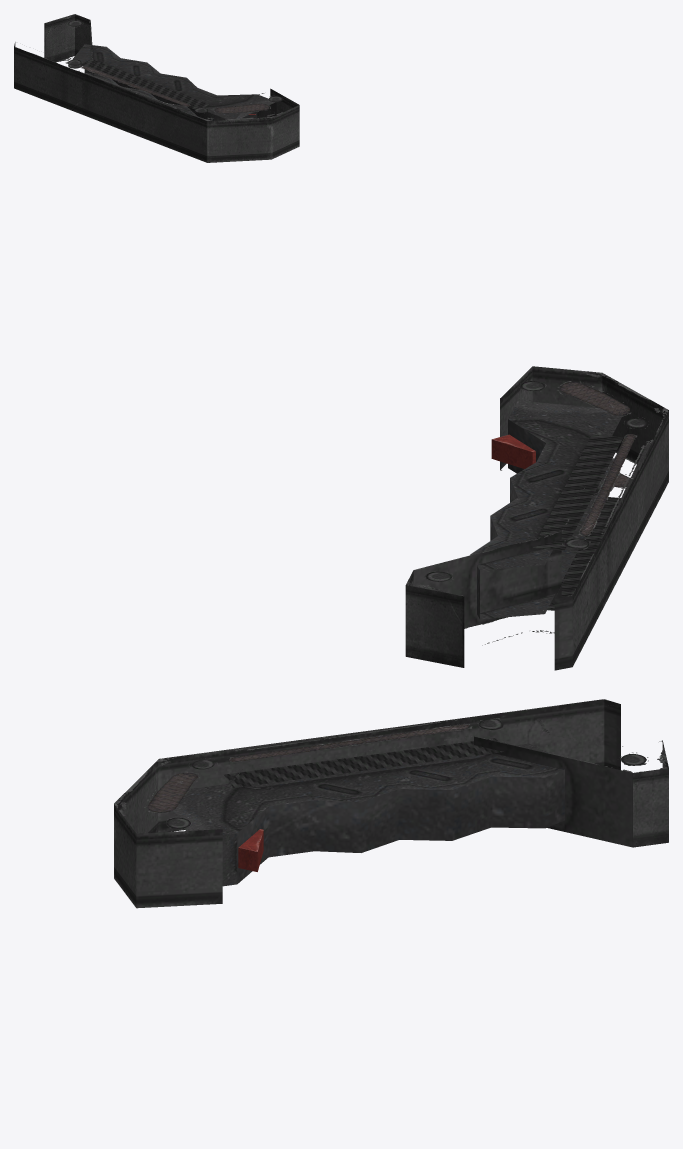
Rendered from t6_wpn_ballistic_knife_world_LOD1.obj.
The picture shows the model from 3 angles, top to bottom: view 1: azimuth 30°, elevation 25°; view 2: azimuth 150°, elevation 25°; view 3: azimuth 270°, elevation 25°; orthographic projection. The views are drawn at different scales.
Parts seen in each view (by area): view 1: mtl_t6_wpn_ballistic_knife_camo2, mtl_t6_wpn_ballistic_knife_camo1; view 2: mtl_t6_wpn_ballistic_knife_camo2, mtl_t6_wpn_ballistic_knife_camo1; view 3: mtl_t6_wpn_ballistic_knife_camo2, mtl_t6_wpn_ballistic_knife_camo1.
Part boxes in pixels (box(x1,y1,x2,y2)): mtl_t6_wpn_ballistic_knife_camo2: box(14, 14, 299, 162); mtl_t6_wpn_ballistic_knife_camo1: box(14, 14, 283, 120); mtl_t6_wpn_ballistic_knife_camo2: box(405, 366, 668, 670); mtl_t6_wpn_ballistic_knife_camo1: box(406, 366, 668, 645); mtl_t6_wpn_ballistic_knife_camo2: box(114, 699, 668, 908); mtl_t6_wpn_ballistic_knife_camo1: box(114, 699, 668, 886).
Size of the model in its own units: 28.12 by 2.29 by 18.23.
